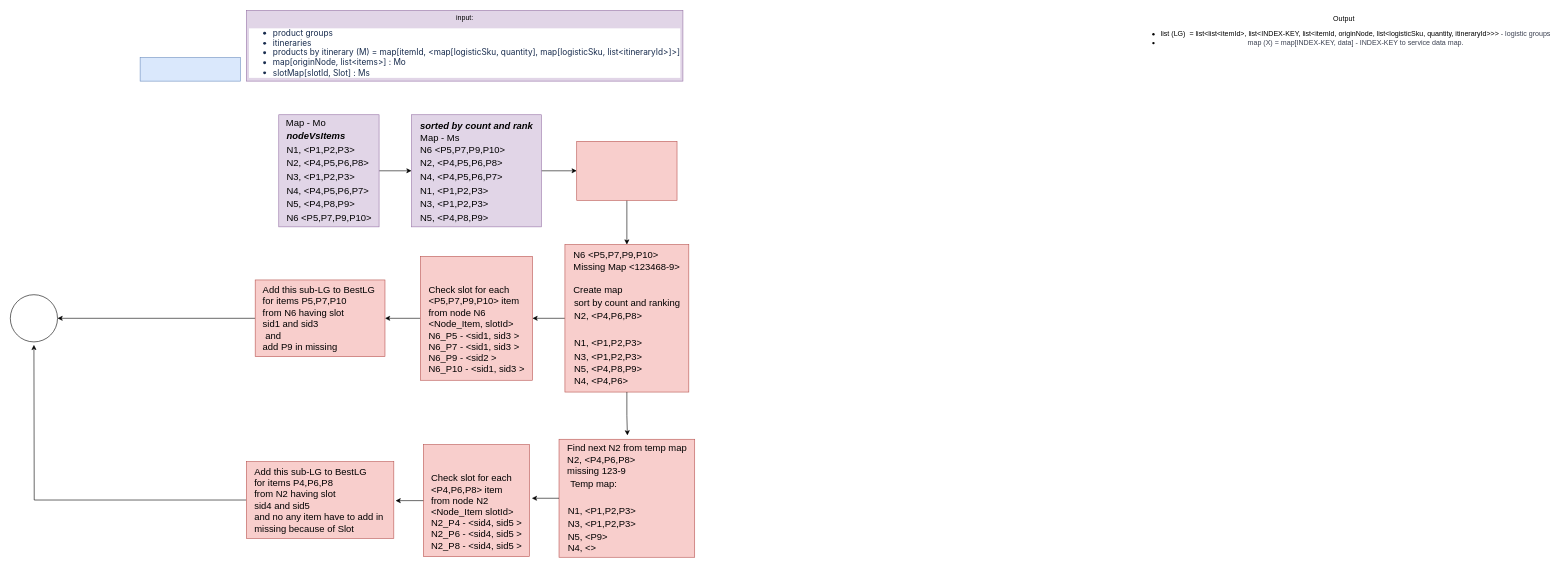
Some shapes in this 1566 by 568 pixel diagram are drawn without their labels. The box of each missing label's shape, as (x1, y1, x2, y2) in pixels:
Ms - map[nodeId , itemWithRank]: (140, 57, 240, 81)
pick first entry from map Ms N6 <P5,P7,P9,P10>: (576, 141, 677, 200)
Stop: (10, 294, 58, 342)
